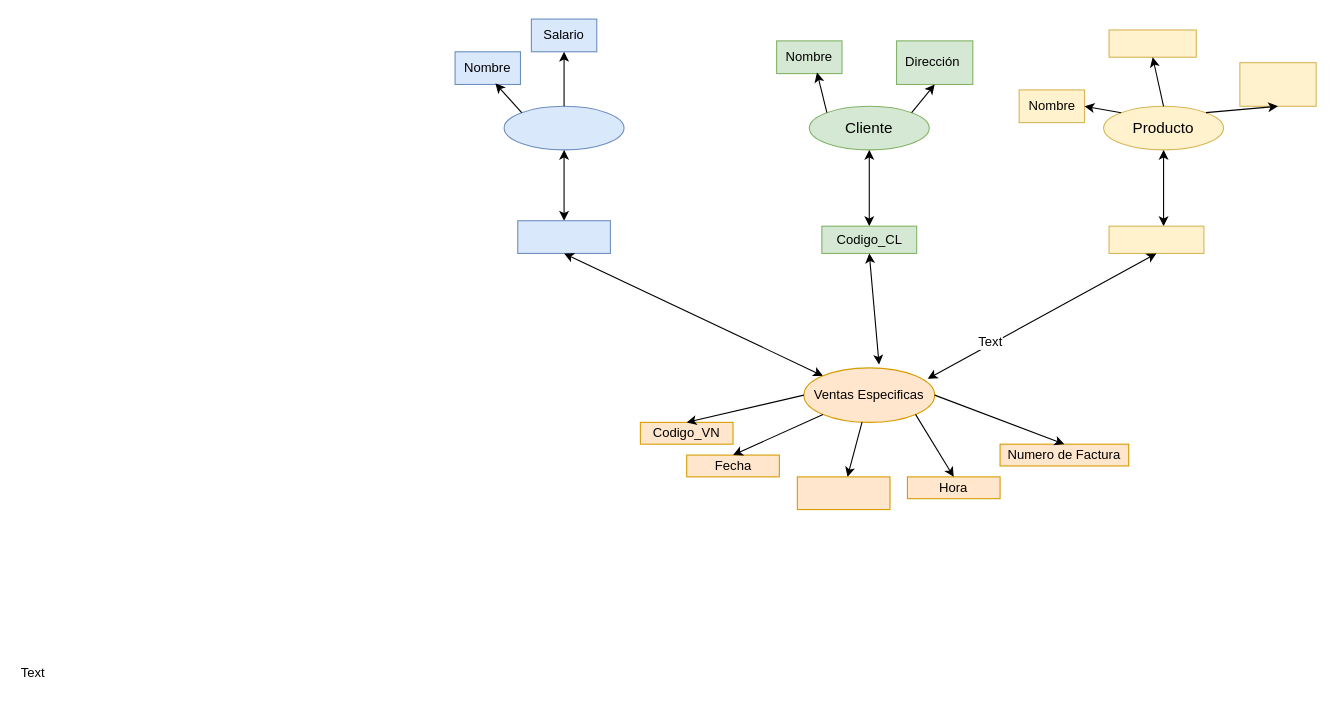
Image size: 1335x703. Some labels were removed from this diagram. The box of each missing label's shape, as (x1, y1, x2, y2) in pixels:
Cantidad por unidad: (1239, 62, 1316, 106)
Codigo_EP: (517, 220, 610, 253)
Codigo_MC: (1108, 225, 1204, 253)
Dinero generado: (796, 476, 890, 510)
Empleados: (503, 105, 624, 150)
Farmacéutica: (1108, 29, 1196, 57)
